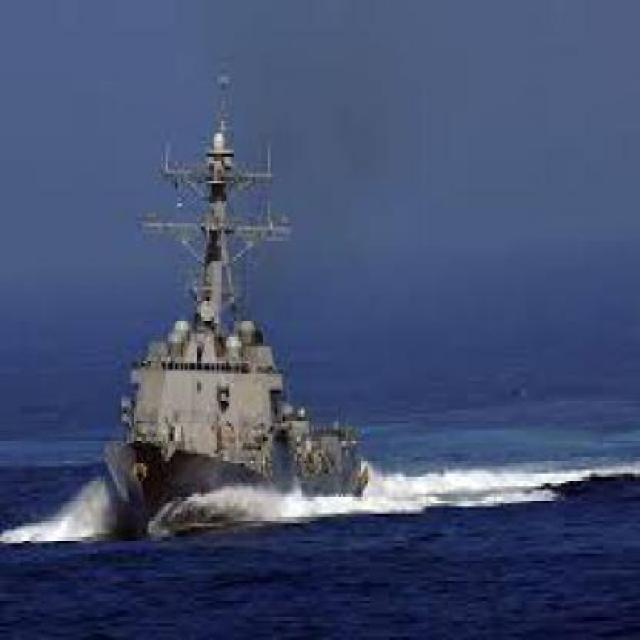warship2: (106, 58, 378, 538)
